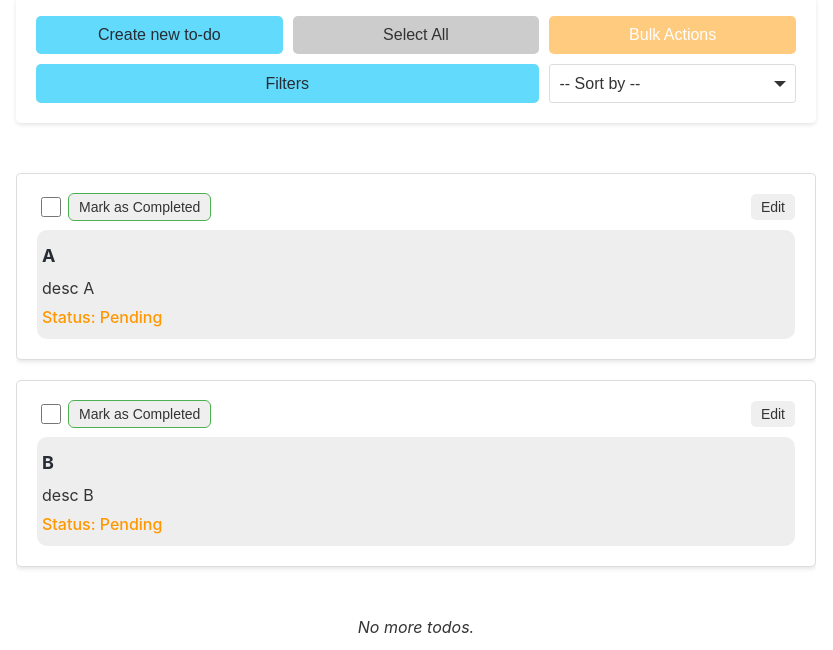
TodoList interactions › deselects individual items when clicked again
expect the heading "A" is shown: met, box [42,245,56,266]
Click the button "Select All": {"x": 416, "y": 35} [293,16,539,54]
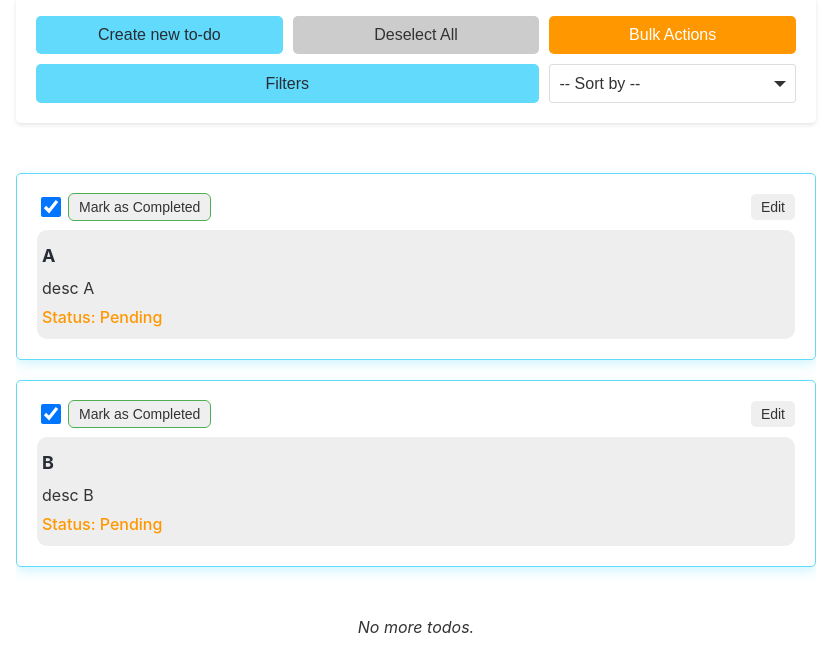
expect the button "Deselect All" is shown: met, box [293,16,539,54]
Click the 1st checkbox: {"x": 51, "y": 207} [41,197,61,217]
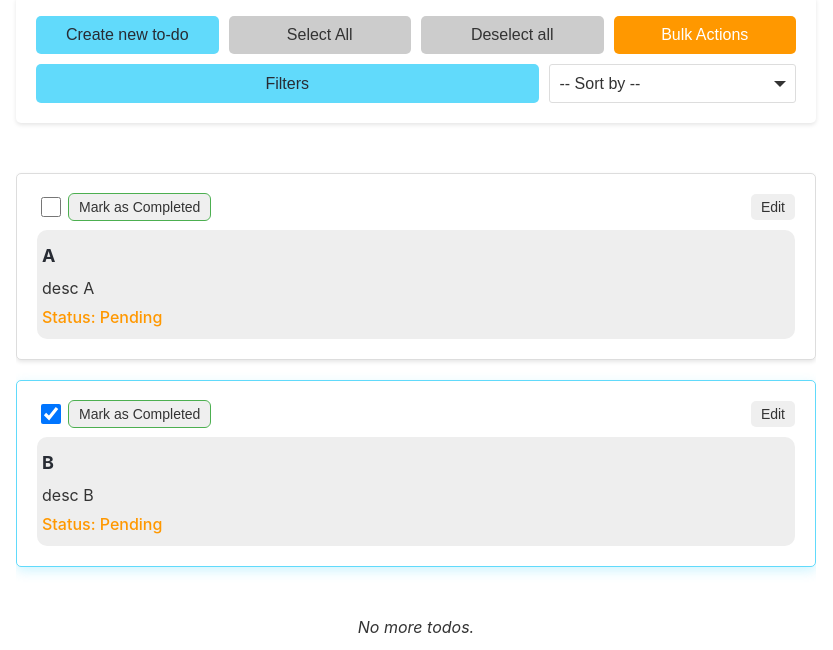
expect the button "Select All" is shown: met, box [228,16,411,54]
